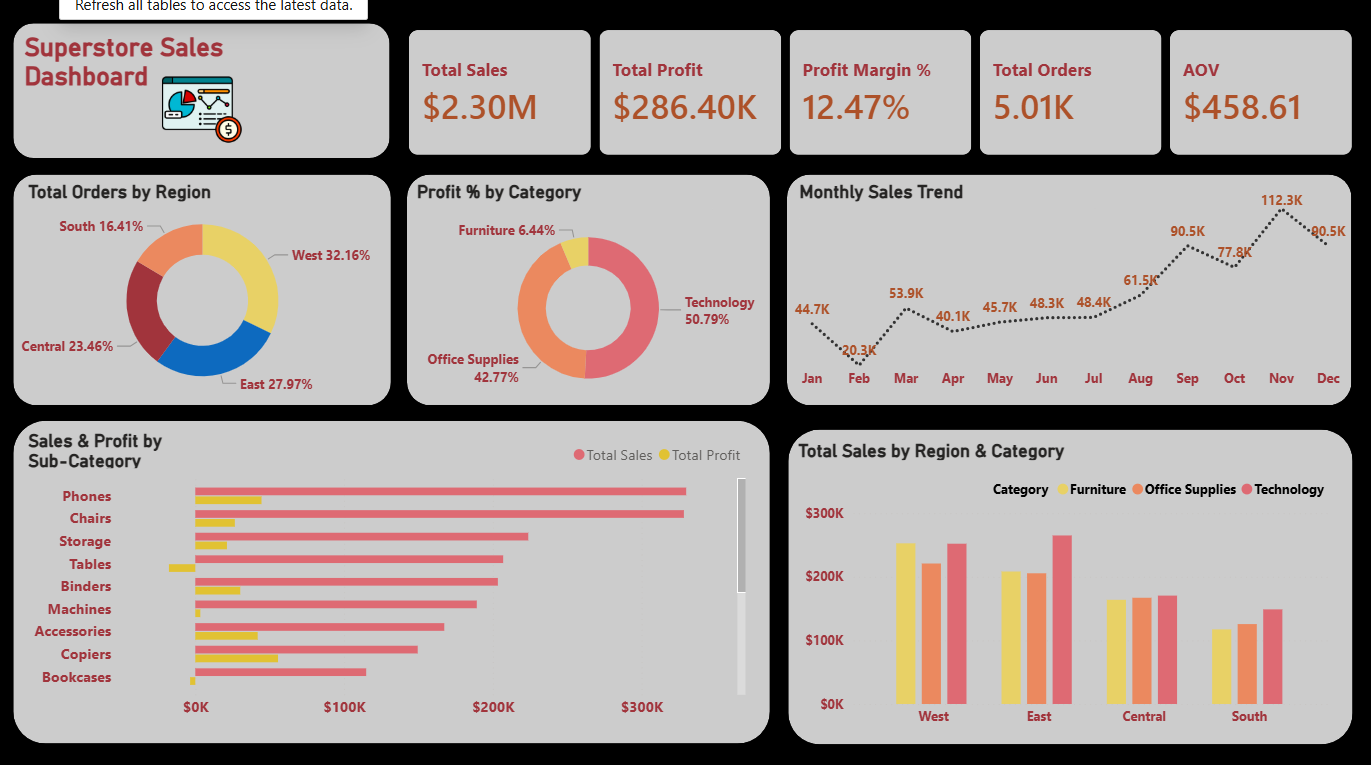

The dashboard page shown, as its layout file describes it:
{"tool":"powerbi","page":{"name":"Page 1","canvas":[1280,720],"ordinal":0},"visuals":[{"type":"shape","box":[734.8,165.1,525.1,214.7],"z":0},{"type":"cardVisual","fields":{"Data":["_Measures.Total Sales","_Measures.Total Profit","_Measures.Profit Margin %","_Measures.Total Orders","_Measures.AOV"]},"box":[366.8,14.5,913.3,150.8],"z":1000},{"type":"shape","box":[736.1,402.2,525.1,292.9],"z":2000},{"type":"shape","title":"Monthly Sales Trend","box":[746,171.3,275.6,36],"z":3000},{"type":"shape","box":[381.1,165.1,337.6,214.7],"z":4000},{"type":"donutChart","fields":{"Y":["_Measures.Profit Contribution %"],"Category":["Orders.Category"]},"box":[381.1,198.6,337.6,181.2],"z":5000},{"type":"shape","title":"Profit % by Category","box":[391,171.3,275.6,27.3],"z":6000},{"type":"shape","box":[14.9,165.1,351.3,214.7],"z":7000},{"type":"shape","box":[14.9,394.7,703.8,300.4],"z":8000},{"type":"clusteredBarChart","fields":{"Y":["_Measures.Total Sales","_Measures.Total Profit"],"Category":["Orders.Sub-Category"]},"box":[28.5,402.2,676.5,285.5],"z":9000},{"type":"shape","title":"Sales & Profit by Sub-Category","box":[28.5,402.2,275.6,36],"z":10000},{"type":"shape","title":"E-Commerce Sales Dashboard","box":[14.9,24.8,350,125.4],"z":11000},{"type":"lineChart","fields":{"Y":["_Measures.Monthly Sales"],"Category":["Orders.Month Name"]},"box":[736.1,171.3,525.1,202.3],"z":12000},{"type":"clusteredColumnChart","fields":{"Y":["_Measures.Total Sales"],"Series":["Orders.Category"],"Category":["Orders.Region"]},"box":[746,438.2,497.8,249.5],"z":13000},{"type":"shape","title":"Total Sales by Region & Category","box":[745.6,411.4,302.8,26.5],"z":14000},{"type":"donutChart","fields":{"Y":["_Measures.Total Orders"],"Category":["Orders.Region"]},"box":[16.1,185,350,194.9],"z":15000},{"type":"shape","title":"Total Orders by Region","box":[28.5,171.3,275.6,27.3],"z":16000},{"type":"shape","title":"Superstore Sales Dashboard","box":[26.1,32.3,331.4,111.7],"z":17000},{"type":"image","box":[121.6,64.5,136.5,79.4],"z":18000}]}

Visuals, with their boxes in screenshot pixels (x1, y1, x2, y2), scaled from the page's 1280x720 canvas onto the 1371x765 screenshot:
shape: <box>787,175,1349,404</box>
cardVisual - _Measures.Total Sales x _Measures.Total Profit: <box>393,15,1370,176</box>
shape: <box>788,427,1351,739</box>
"Monthly Sales Trend" shape: <box>799,182,1094,220</box>
shape: <box>408,175,770,404</box>
donutChart - _Measures.Profit Contribution % x Orders.Category: <box>408,211,770,404</box>
"Profit % by Category" shape: <box>419,182,714,211</box>
shape: <box>16,175,392,404</box>
shape: <box>16,419,770,739</box>
clusteredBarChart - _Measures.Total Sales x _Measures.Total Profit: <box>31,427,755,731</box>
"Sales & Profit by Sub-Category" shape: <box>31,427,326,466</box>
"E-Commerce Sales Dashboard" shape: <box>16,26,391,160</box>
lineChart - _Measures.Monthly Sales x Orders.Month Name: <box>788,182,1351,397</box>
clusteredColumnChart - _Measures.Total Sales x Orders.Category: <box>799,466,1332,731</box>
"Total Sales by Region & Category" shape: <box>799,437,1123,465</box>
donutChart - _Measures.Total Orders x Orders.Region: <box>17,197,392,404</box>
"Total Orders by Region" shape: <box>31,182,326,211</box>
"Superstore Sales Dashboard" shape: <box>28,34,383,153</box>
image: <box>130,69,276,153</box>
